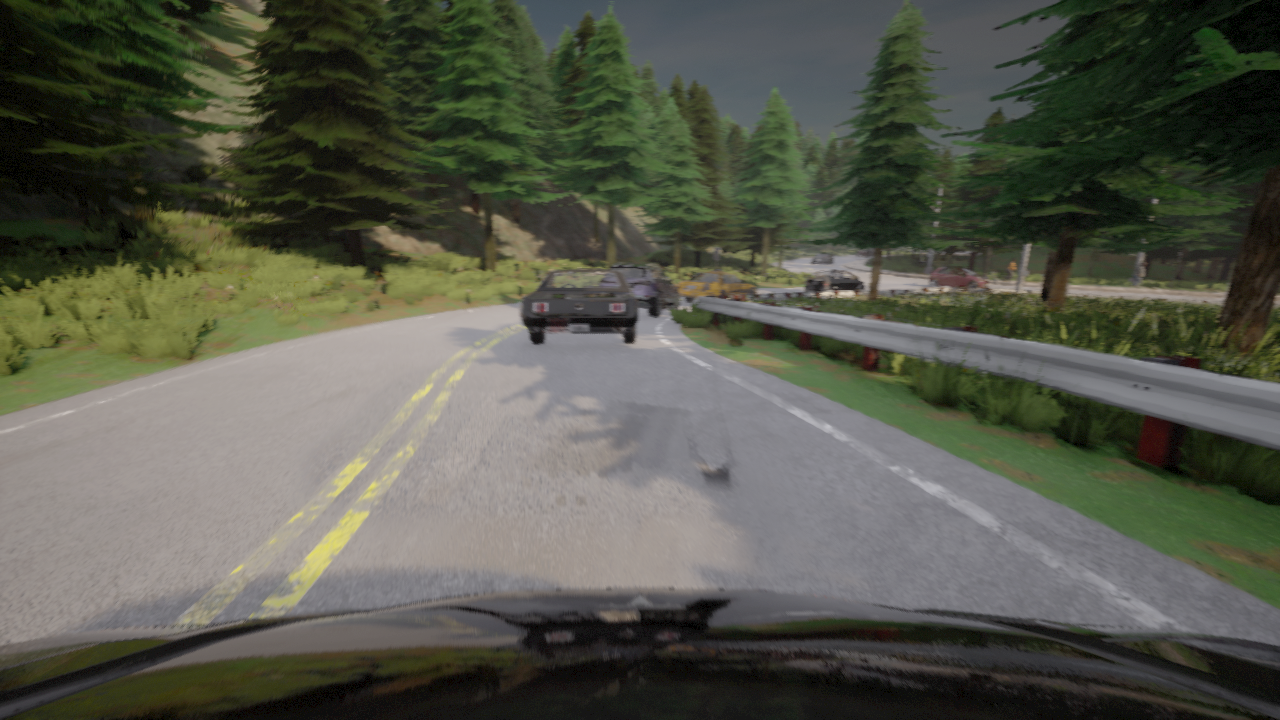cyclist: (0, 588, 1279, 719), (520, 270, 637, 343), (609, 262, 679, 316), (678, 269, 756, 302), (804, 270, 865, 291), (927, 267, 989, 287), (811, 253, 832, 264), (856, 248, 873, 257)
pedestrian: (1129, 262, 1144, 288), (1003, 258, 1015, 281)
